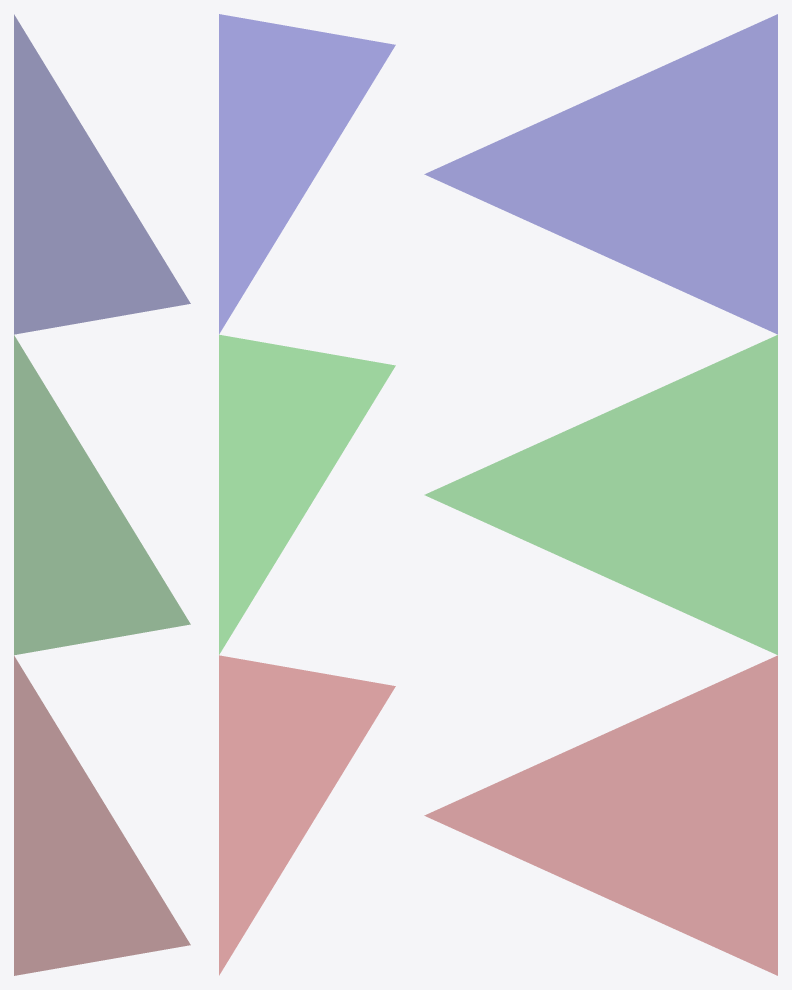
The model's file is all_blend.gltf.
3 renders of one model, left to right at view 1: azimuth 30°, elevation 25°; view 2: azimuth 150°, elevation 25°; view 3: azimuth 270°, elevation 25°, orthographic.
Parts seen in each view (by area): view 1: AllBlendPrimitives; view 2: AllBlendPrimitives; view 3: AllBlendPrimitives.
Part boxes in pixels (bbox=[...]): AllBlendPrimitives: bbox=[14, 14, 190, 975]; AllBlendPrimitives: bbox=[219, 14, 395, 975]; AllBlendPrimitives: bbox=[424, 14, 777, 975].
Bounding box in the file's own units: 0 × 60 × 20.
